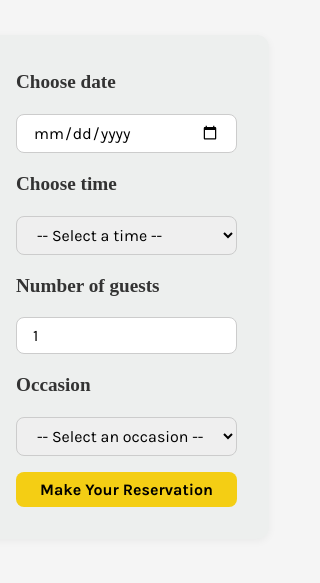
Test case: BookingForm Component › shows error when submitting empty form
Click the button "Make Your Reservation" at (126, 489), box [16,472,237,507]
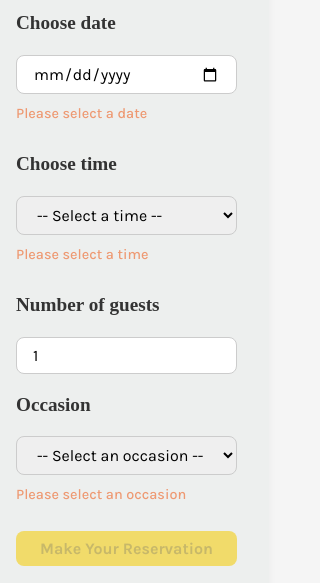
Check: the text "Please select a date" is shown, box [16,105,147,122]
Check: the text "Please select a time" is shown, box [16,246,148,263]
Check: the text "Please select an occasion" is shown, box [16,486,186,504]
